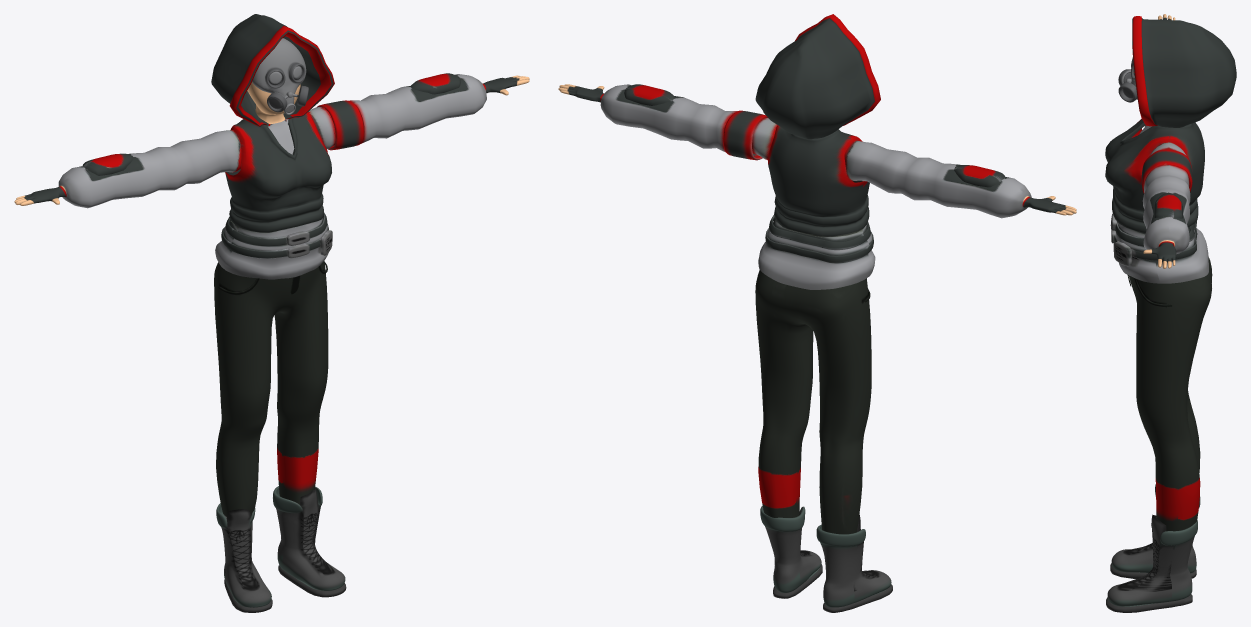
The model's file is female-elite-final.fbx.
3 renders of one model, left to right at view 1: azimuth 30°, elevation 25°; view 2: azimuth 150°, elevation 25°; view 3: azimuth 270°, elevation 25°, orthographic.
Parts seen in each view (by area): view 1: elite_female:pants_female1; view 2: elite_female:pants_female1; view 3: elite_female:pants_female1.
Boxes of the visible parts, left/top/right/bottom form: elite_female:pants_female1: left=14, top=14, right=529, bottom=612; elite_female:pants_female1: left=558, top=14, right=1076, bottom=612; elite_female:pants_female1: left=1105, top=14, right=1236, bottom=612.
Size of the model in its own units: 145 by 153 by 31.82.
